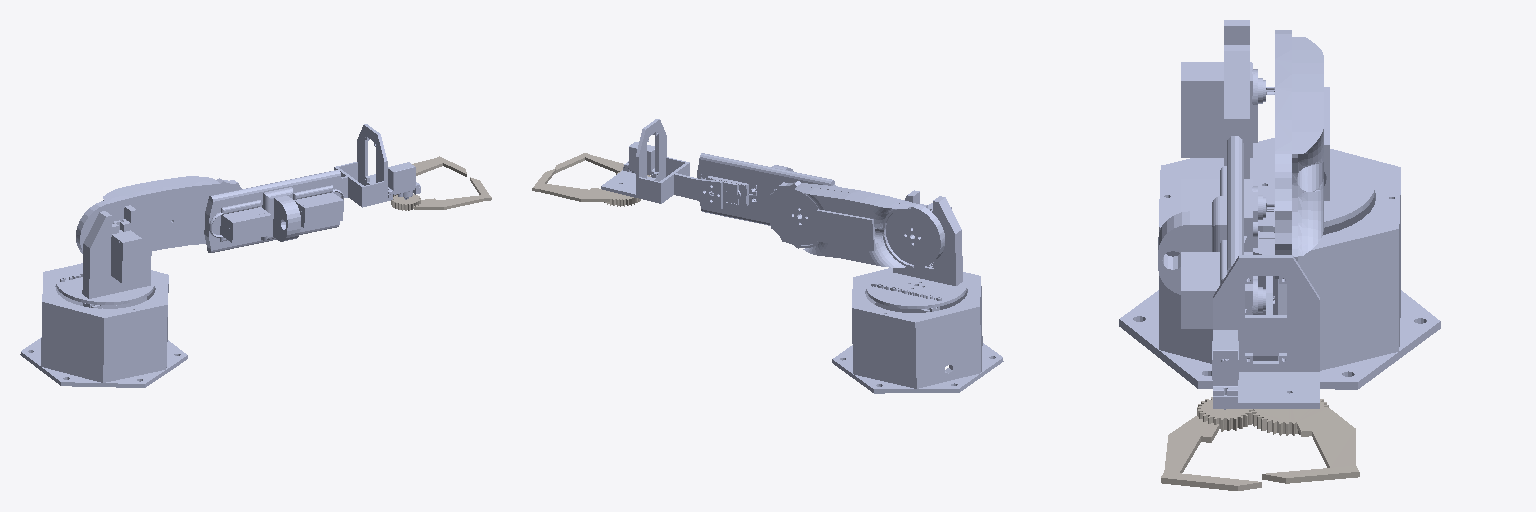
The robot description file, URDF, robot "URDFFPRADITYA":
<?xml version="1.0" encoding="utf-8"?>
<!-- This URDF was automatically created by SolidWorks to URDF Exporter! Originally created by [author] ([email redacted]) 
     Commit Version: 1.6.0-4-g7f85cfe  Build Version: 1.6.7995.38578
     For more information, please see http://wiki.ros.org/sw_urdf_exporter -->
<robot
  name="URDFFPRADITYA">
  <link
    name="base">
    <inertial>
      <origin
        xyz="0.00417258922803089 -7.63163683942039E-05 0.0827113985563339"
        rpy="0 0 0" />
      <mass
        value="0.272903163990243" />
      <inertia
        ixx="0.000429962052550315"
        ixy="-2.64315576764265E-07"
        ixz="9.95683828945404E-06"
        iyy="0.000444641998165347"
        iyz="-1.84433530783371E-07"
        izz="0.000690137740180865" />
    </inertial>
    <visual>
      <origin
        xyz="0 0 0"
        rpy="0 0 0" />
      <geometry>
        <mesh
          filename="package://URDFFPRADITYA/meshes/base.STL" />
      </geometry>
      <material
        name="">
        <color
          rgba="0.792156862745098 0.819607843137255 0.933333333333333 1" />
      </material>
    </visual>
    <collision>
      <origin
        xyz="0 0 0"
        rpy="0 0 0" />
      <geometry>
        <mesh
          filename="package://URDFFPRADITYA/meshes/base.STL" />
      </geometry>
    </collision>
  </link>
  <link
    name="piringan">
    <inertial>
      <origin
        xyz="0.000466159484448322 -0.0184644151564884 0.0304858000552142"
        rpy="0 0 0" />
      <mass
        value="0.0882364212328449" />
      <inertia
        ixx="5.52122500227001E-05"
        ixy="1.75775010679822E-07"
        ixz="-2.18372832027494E-07"
        iyy="6.33014176321945E-05"
        iyz="8.67690046138616E-06"
        izz="4.46103343876022E-05" />
    </inertial>
    <visual>
      <origin
        xyz="0 0 0"
        rpy="0 0 0" />
      <geometry>
        <mesh
          filename="package://URDFFPRADITYA/meshes/piringan.STL" />
      </geometry>
      <material
        name="">
        <color
          rgba="0.792156862745098 0.819607843137255 0.933333333333333 1" />
      </material>
    </visual>
    <collision>
      <origin
        xyz="0 0 0"
        rpy="0 0 0" />
      <geometry>
        <mesh
          filename="package://URDFFPRADITYA/meshes/piringan.STL" />
      </geometry>
    </collision>
  </link>
  <joint
    name="piringan"
    type="revolute">
    <origin
      xyz="0.0025666 0 0.12245"
      rpy="0 0 0" />
    <parent
      link="base" />
    <child
      link="piringan" />
    <axis
      xyz="-0.020956 0 -0.99978" />
    <limit
      lower="-3.14"
      upper="3.14"
      effort="0.83357"
      velocity="5.236" />
  </joint>
  <link
    name="servolink1">
    <inertial>
      <origin
        xyz="0.0577758157987515 0.00125801950225127 -0.044721879320529"
        rpy="0 0 0" />
      <mass
        value="0.128960070338363" />
      <inertia
        ixx="4.51624109465899E-05"
        ixy="-1.04960806426866E-05"
        ixz="7.86328350347157E-07"
        iyy="0.000199243759542007"
        iyz="9.68344484703568E-07"
        izz="0.000232414347477837" />
    </inertial>
    <visual>
      <origin
        xyz="0 0 0"
        rpy="0 0 0" />
      <geometry>
        <mesh
          filename="package://URDFFPRADITYA/meshes/servolink1.STL" />
      </geometry>
      <material
        name="">
        <color
          rgba="0.792156862745098 0.819607843137255 0.933333333333333 1" />
      </material>
    </visual>
    <collision>
      <origin
        xyz="0 0 0"
        rpy="0 0 0" />
      <geometry>
        <mesh
          filename="package://URDFFPRADITYA/meshes/servolink1.STL" />
      </geometry>
    </collision>
  </link>
  <joint
    name="sevo1"
    type="revolute">
    <origin
      xyz="0.00174117631642771 0.0511058158857173 0.051907724005499"
      rpy="-1.5707963267949 0 0" />
    <parent
      link="piringan" />
    <child
      link="servolink1" />
    <axis
      xyz="0 0 1" />
    <limit
      lower="-3.14"
      upper="3.14"
      effort="0.83357"
      velocity="5.236" />
  </joint>
  <link
    name="servolink2">
    <inertial>
      <origin
        xyz="0.0464841100096158 0.00174948739431702 -0.0761896914678902"
        rpy="0 0 0" />
      <mass
        value="0.125855455865507" />
      <inertia
        ixx="3.02721620296553E-05"
        ixy="-2.40277642941761E-06"
        ixz="-1.26286230330879E-12"
        iyy="9.45110824907241E-05"
        iyz="-3.32610776487244E-13"
        izz="0.000102469633938426" />
    </inertial>
    <visual>
      <origin
        xyz="0 0 0"
        rpy="0 0 0" />
      <geometry>
        <mesh
          filename="package://URDFFPRADITYA/meshes/servolink2.STL" />
      </geometry>
      <material
        name="">
        <color
          rgba="0.792156862745098 0.819607843137255 0.933333333333333 1" />
      </material>
    </visual>
    <collision>
      <origin
        xyz="0 0 0"
        rpy="0 0 0" />
      <geometry>
        <mesh
          filename="package://URDFFPRADITYA/meshes/servolink2.STL" />
      </geometry>
    </collision>
  </link>
  <joint
    name="servo2"
    type="revolute">
    <origin
      xyz="0.114034064649251 0.00706014836438754 -0.00176338721238546"
      rpy="0 0 0" />
    <parent
      link="servolink1" />
    <child
      link="servolink2" />
    <axis
      xyz="0 0 1" />
    <limit
      lower="-3.14"
      upper="3.14"
      effort="0.83357"
      velocity="5.236" />
  </joint>
  <link
    name="servolink3">
    <inertial>
      <origin
        xyz="0.0620234389184806 -0.0040790777727007 -0.0593197402450246"
        rpy="0 0 0" />
      <mass
        value="0.0260593092533437" />
      <inertia
        ixx="9.09683554066077E-06"
        ixy="-2.36209174396408E-07"
        ixz="-2.93645570138929E-08"
        iyy="1.53439259310092E-05"
        iyz="-1.46574704092211E-07"
        izz="1.61650308361707E-05" />
    </inertial>
    <visual>
      <origin
        xyz="0 0 0"
        rpy="0 0 0" />
      <geometry>
        <mesh
          filename="package://URDFFPRADITYA/meshes/servolink3.STL" />
      </geometry>
      <material
        name="">
        <color
          rgba="0.792156862745098 0.819607843137255 0.933333333333333 1" />
      </material>
    </visual>
    <collision>
      <origin
        xyz="0 0 0"
        rpy="0 0 0" />
      <geometry>
        <mesh
          filename="package://URDFFPRADITYA/meshes/servolink3.STL" />
      </geometry>
    </collision>
  </link>
  <joint
    name="servo3"
    type="revolute">
    <origin
      xyz="0.0945742243913521 0.00353263784834318 -0.00146171444441153"
      rpy="0 0 0" />
    <parent
      link="servolink2" />
    <child
      link="servolink3" />
    <axis
      xyz="0 0 1" />
    <limit
      lower="-3.14"
      upper="3.14"
      effort="0.83357"
      velocity="5.236" />
  </joint>
  <link
    name="servo4">
    <inertial>
      <origin
        xyz="0.0255618399435673 0.00823998018558937 -0.151178771594833"
        rpy="0 0 0" />
      <mass
        value="0.00593660537539606" />
      <inertia
        ixx="7.5418129421024E-07"
        ixy="-8.73168501496348E-07"
        ixz="-9.85265988499928E-08"
        iyy="4.45465648871607E-06"
        iyz="-3.61806661580129E-08"
        izz="5.18037390894127E-06" />
    </inertial>
    <visual>
      <origin
        xyz="0 0 0"
        rpy="0 0 0" />
      <geometry>
        <mesh
          filename="package://URDFFPRADITYA/meshes/servo4.STL" />
      </geometry>
      <material
        name="">
        <color
          rgba="0.776470588235294 0.756862745098039 0.737254901960784 1" />
      </material>
    </visual>
    <collision>
      <origin
        xyz="0 0 0"
        rpy="0 0 0" />
      <geometry>
        <mesh
          filename="package://URDFFPRADITYA/meshes/servo4.STL" />
      </geometry>
    </collision>
  </link>
  <joint
    name="servo4"
    type="revolute">
    <origin
      xyz="0.0831288027064685 0.169972417305128 -0.0733785107611967"
      rpy="-1.5707963267949 0 0" />
    <parent
      link="servolink3" />
    <child
      link="servo4" />
    <axis
      xyz="0 0 1" />
    <limit
      lower="-3.14"
      upper="3.14"
      effort="0.17652"
      velocity="10.472" />
  </joint>
  <link
    name="endpoint1">
    <inertial>
      <origin
        xyz="-0.31034154618055 -0.00126947176024928 0.0182038090132978"
        rpy="0 0 0" />
      <mass
        value="0.657387493547971" />
      <inertia
        ixx="0.00181876145870602"
        ixy="-0.000329203114779509"
        ixz="0.00133612629704726"
        iyy="0.00683074207308541"
        iyz="0.000143324613122407"
        izz="0.0059950654188618" />
    </inertial>
    <visual>
      <origin
        xyz="0 0 0"
        rpy="0 0 0" />
      <geometry>
        <mesh
          filename="package://URDFFPRADITYA/meshes/endpoint1.STL" />
      </geometry>
      <material
        name="">
        <color
          rgba="1 1 1 1" />
      </material>
    </visual>
    <collision>
      <origin
        xyz="0 0 0"
        rpy="0 0 0" />
      <geometry>
        <mesh
          filename="package://URDFFPRADITYA/meshes/endpoint1.STL" />
      </geometry>
    </collision>
  </link>
  <joint
    name="endpoint1"
    type="fixed">
    <origin
      xyz="0.07851 -0.017246 -0.15499"
      rpy="0 0 0" />
    <parent
      link="servo4" />
    <child
      link="endpoint1" />
    <axis
      xyz="0 0 0" />
  </joint>
  <link
    name="servotipu">
    <inertial>
      <origin
        xyz="0.0200681062053951 -0.00760663414439727 -0.152610373161557"
        rpy="0 0 0" />
      <mass
        value="0.00943642630992543" />
      <inertia
        ixx="1.53010007604928E-06"
        ixy="1.70333197296685E-06"
        ixz="1.4818010321321E-07"
        iyy="6.13769701471646E-06"
        iyz="-6.65171192606925E-08"
        izz="7.61772673692282E-06" />
    </inertial>
    <visual>
      <origin
        xyz="0 0 0"
        rpy="0 0 0" />
      <geometry>
        <mesh
          filename="package://URDFFPRADITYA/meshes/servotipu.STL" />
      </geometry>
      <material
        name="">
        <color
          rgba="0.776470588235294 0.756862745098039 0.737254901960784 1" />
      </material>
    </visual>
    <collision>
      <origin
        xyz="0 0 0"
        rpy="0 0 0" />
      <geometry>
        <mesh
          filename="package://URDFFPRADITYA/meshes/servotipu.STL" />
      </geometry>
    </collision>
  </link>
  <joint
    name="servotipu"
    type="revolute">
    <origin
      xyz="0.083029 0.16997 -0.043379"
      rpy="-1.5708 0 0" />
    <parent
      link="servolink3" />
    <child
      link="servotipu" />
    <axis
      xyz="0 0 1" />
    <limit
      lower="-3.14"
      upper="3.14"
      effort="0.17652"
      velocity="10.472" />
  </joint>
  <link
    name="endpoint2">
    <inertial>
      <origin
        xyz="-0.308019406044982 -0.00133156473112015 0.0182038090132977"
        rpy="0 0 0" />
      <mass
        value="0.657387493547972" />
      <inertia
        ixx="0.00181876145870601"
        ixy="-0.000329203114779437"
        ixz="0.00133612629704726"
        iyy="0.00683074207308542"
        iyz="0.000143324613122388"
        izz="0.0059950654188618" />
    </inertial>
    <visual>
      <origin
        xyz="0 0 0"
        rpy="0 0 0" />
      <geometry>
        <mesh
          filename="package://URDFFPRADITYA/meshes/endpoint2.STL" />
      </geometry>
      <material
        name="">
        <color
          rgba="1 1 1 1" />
      </material>
    </visual>
    <collision>
      <origin
        xyz="0 0 0"
        rpy="0 0 0" />
      <geometry>
        <mesh
          filename="package://URDFFPRADITYA/meshes/endpoint2.STL" />
      </geometry>
    </collision>
  </link>
  <joint
    name="endpoint2"
    type="fixed">
    <origin
      xyz="0.0762870841043169 0.0128156153922516 -0.154987060760109"
      rpy="0 0 0" />
    <parent
      link="servotipu" />
    <child
      link="endpoint2" />
    <axis
      xyz="0 0 0" />
  </joint>
</robot>

--- Facts derived from the render (not from the file) ---
The picture shows the robot from 3 angles, left to right: view 1: azimuth 30°, elevation 25°; view 2: azimuth 150°, elevation 25°; view 3: azimuth 270°, elevation 25°; orthographic projection.
Robot: URDFFPRADITYA — 9 links, 8 joints (6 revolute, 2 fixed); root link base; default pose: every joint at zero.
Visible links, largest first — view 1: base, servolink2, piringan, servolink1, servolink3, servo4; view 2: base, servolink1, piringan, servolink3, servolink2, servotipu, servo4; view 3: base, servolink3, piringan, servolink2, servolink1, servotipu, servo4.
Link boxes in pixels (x1,y1,x2,y2): base: (20,265,187,387); servolink2: (204,170,343,252); piringan: (56,205,154,304); servolink1: (76,176,241,253); servolink3: (334,124,420,207); servo4: (391,177,491,210); base: (832,269,1003,393); servolink1: (766,181,944,267); piringan: (866,190,966,308); servolink3: (601,119,722,208); servolink2: (697,153,837,225); servotipu: (532,169,640,206); servo4: (555,153,650,176); base: (1119,138,1440,389); servolink3: (1212,255,1319,409); piringan: (1181,20,1374,231); servolink2: (1158,136,1274,328); servolink1: (1275,30,1329,278); servotipu: (1251,399,1359,483); servo4: (1161,397,1261,490).
Bounding box of the posed robot: 0.4434 × 0.1501 × 0.1657 m (x, y, z).
7 mesh visuals loaded from 9 distinct referenced files (7 binary STL); not drawn: 2 (file found but could not be loaded).
